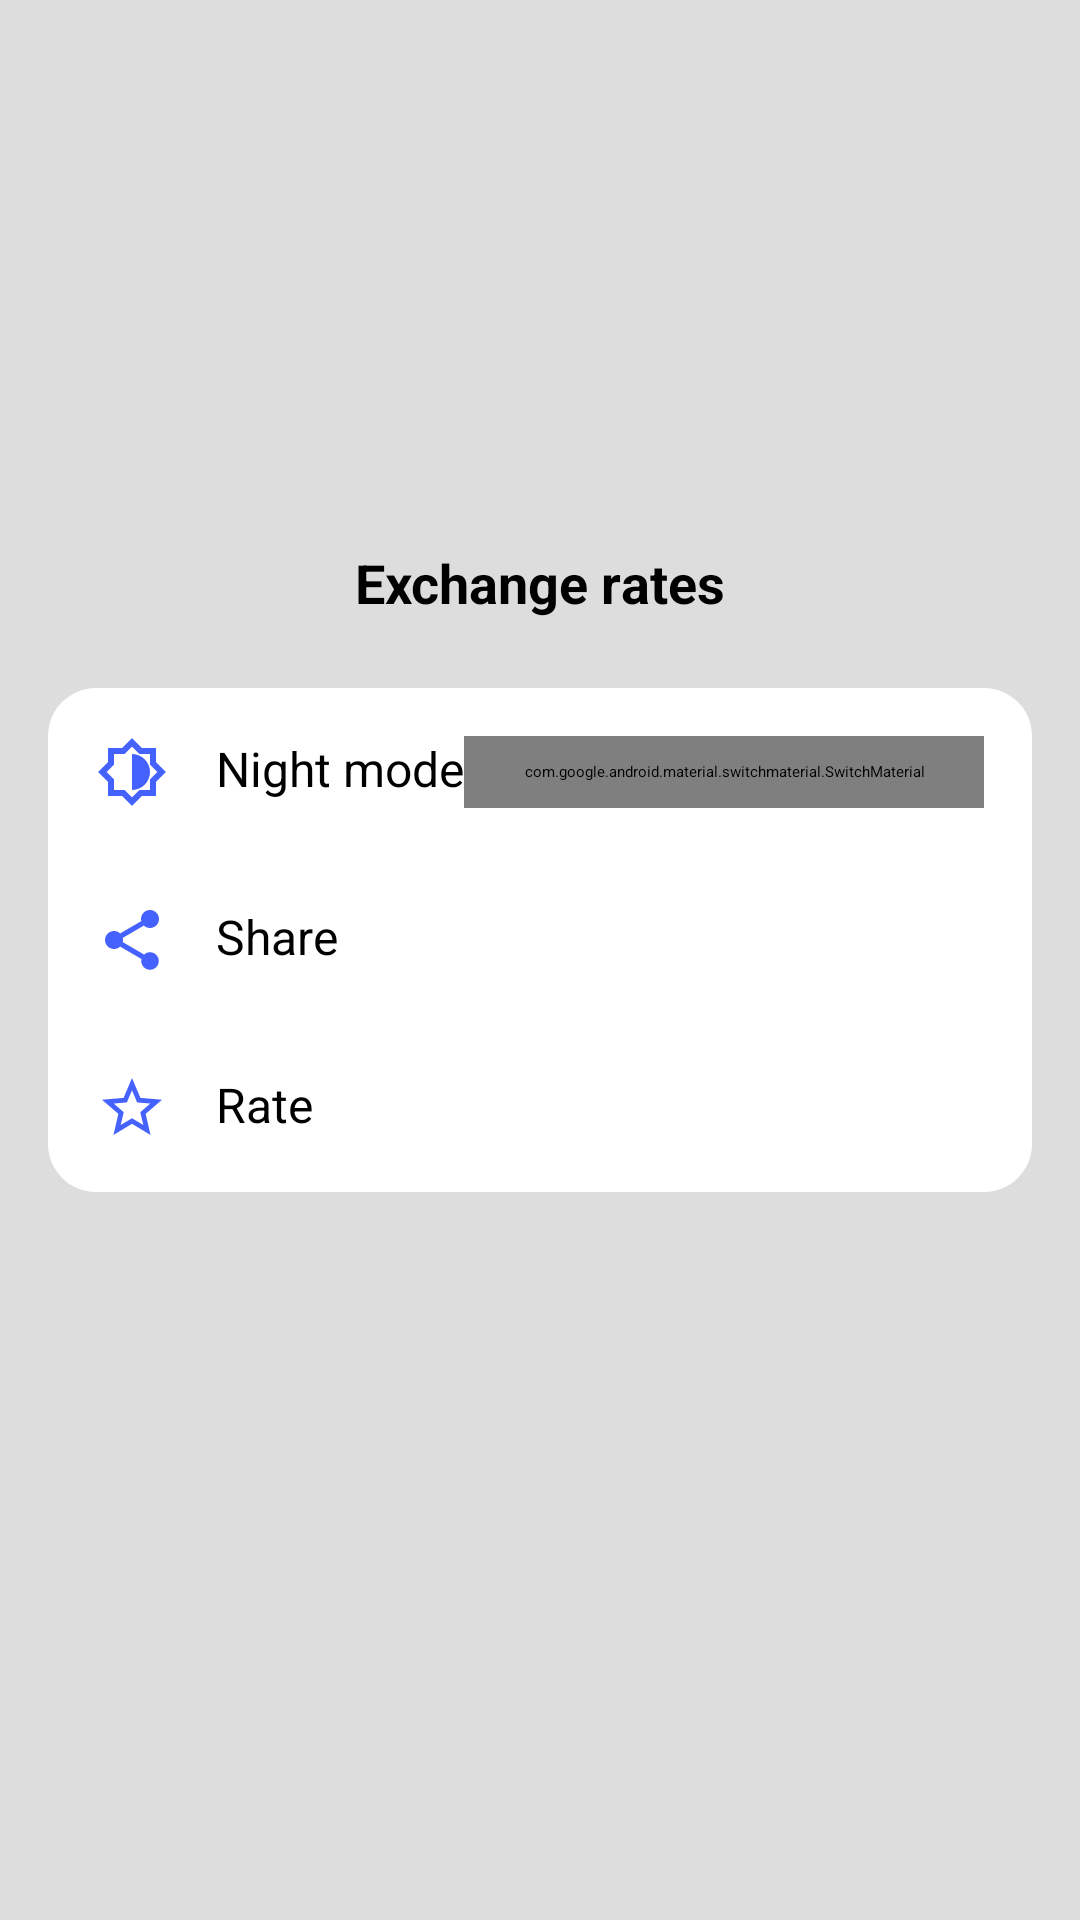

Icons on this 1080*1920 Android screen, each with the point to tap as point (x, y):
star: point (132, 1106)
